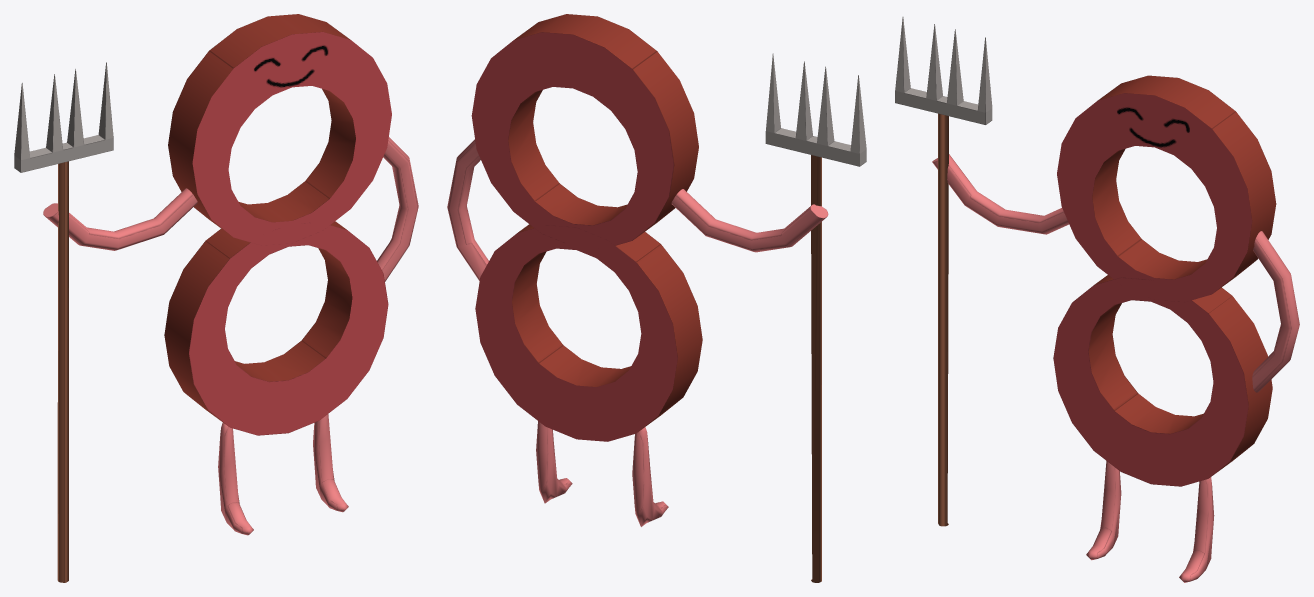
The model's file is Infinity_Figure.fbx.
The picture shows the model from 3 angles, left to right: view 1: azimuth 30°, elevation 25°; view 2: azimuth 150°, elevation 25°; view 3: azimuth 330°, elevation 25°; orthographic projection. The views are drawn at different scales.
Parts seen in each view (by area): view 1: pasted__pCube1; view 2: pasted__pCube1; view 3: pasted__pCube1.
Part boxes in pixels (x1=…): pasted__pCube1: x1=14, y1=14, x2=418, y2=582; pasted__pCube1: x1=447, y1=14, x2=866, y2=582; pasted__pCube1: x1=895, y1=17, x2=1299, y2=582.
Bounding box in the file's own units: 1.47 × 1.78 × 0.2349.
1 material, 1 textured.
